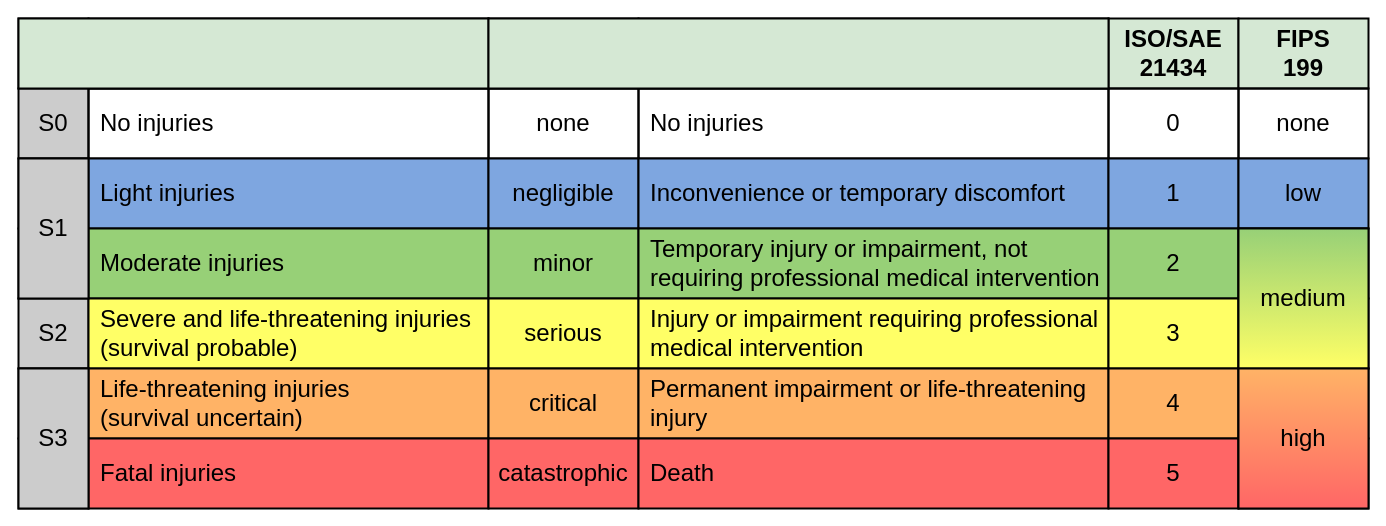
This 1386x526 diagram has some shape labels left out. The centre of each missing label's shape, as x and y in pixels:
"ISO 14971" belongs at point 798,53.
"ISO 26262" belongs at point 253,53.
